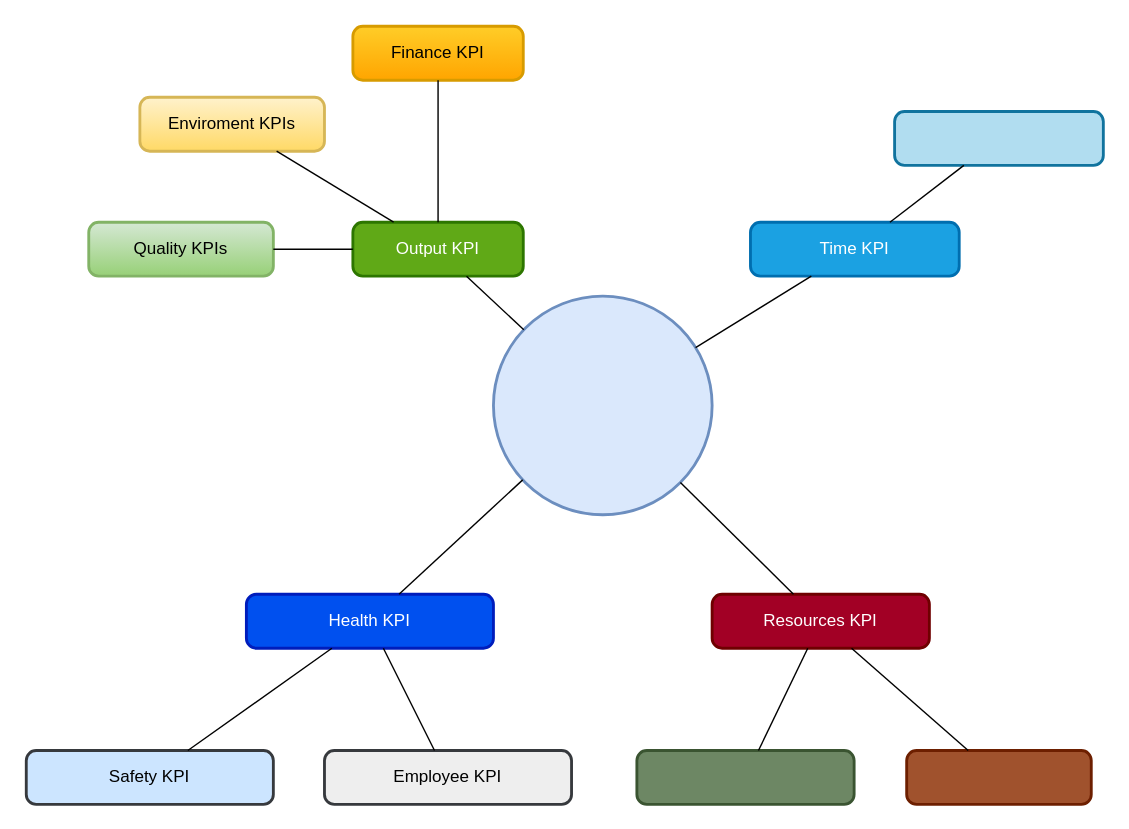
The diagram is 1129 pixels wide and 829 high, and some of its shapes have lost their labels. The shapes that lost their labels are listed below. From the top down, each one's centre as x and y in pixels, then its label:
point 998,137: Efficiency KPI
point 602,404: Smart App KPI Taxonomy
point 745,776: Material Consumption KPI
point 998,776: Energy KPI
